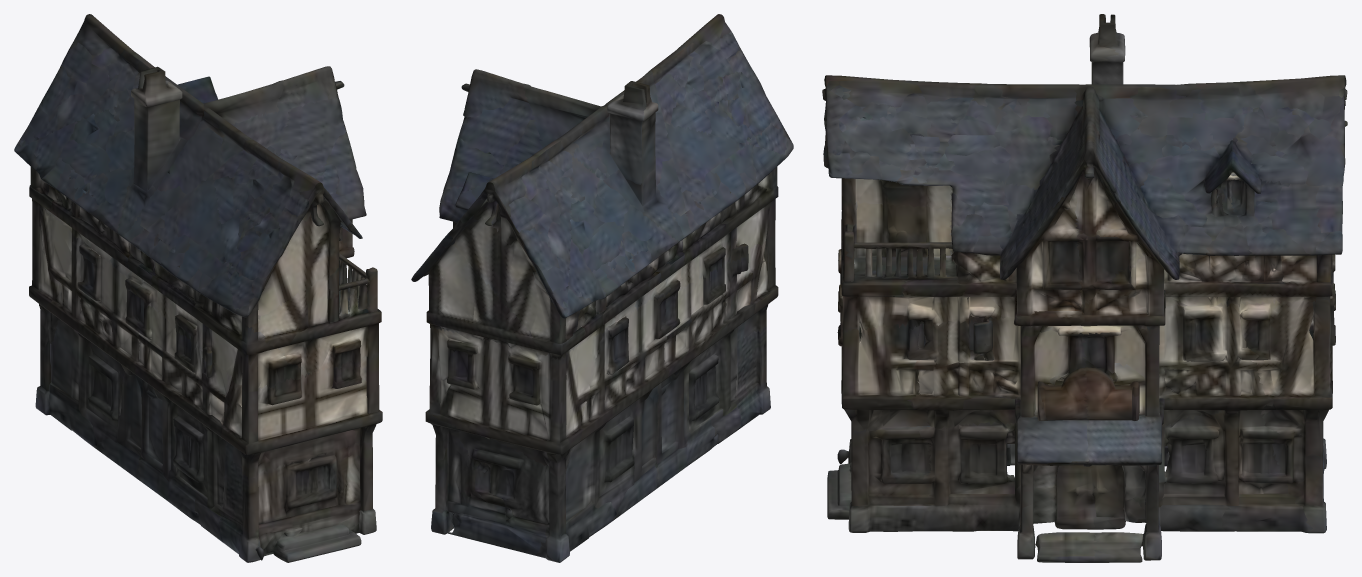
The model's file is tripo_pbr_model_d158e4d2-8612-4065-85e7-c686fa57379e.glb.
3 renders of one model, left to right at view 1: azimuth 30°, elevation 25°; view 2: azimuth 150°, elevation 25°; view 3: azimuth 270°, elevation 25°, orthographic. The views are drawn at different scales.
Visible parts, largest first — view 1: tripo_node_d158e4d2-8612-4065-85e7-c686fa57379e; view 2: tripo_node_d158e4d2-8612-4065-85e7-c686fa57379e; view 3: tripo_node_d158e4d2-8612-4065-85e7-c686fa57379e.
Part boxes in pixels (x1,y1,x2,y2): tripo_node_d158e4d2-8612-4065-85e7-c686fa57379e: (14,14,382,562); tripo_node_d158e4d2-8612-4065-85e7-c686fa57379e: (411,14,793,562); tripo_node_d158e4d2-8612-4065-85e7-c686fa57379e: (822,14,1347,562).
Size of the model in its own units: 0.548 by 0.9557 by 0.9997.
1 material, 1 textured.
